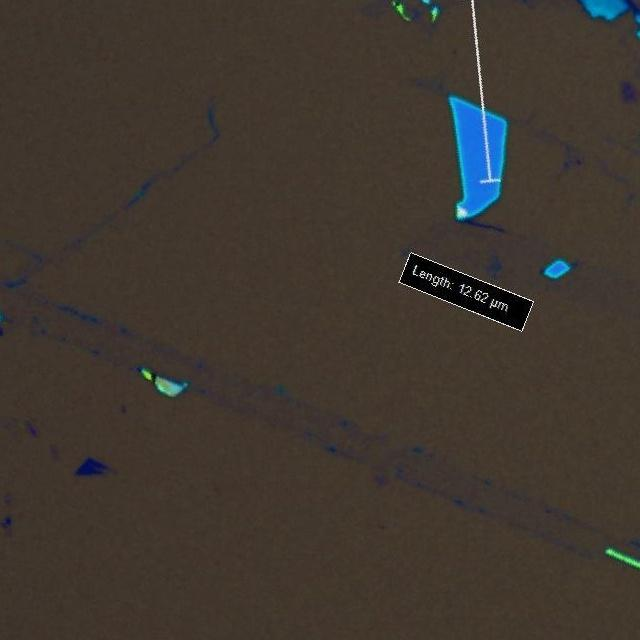monolayer-eWW4: (620, 80, 638, 102)
